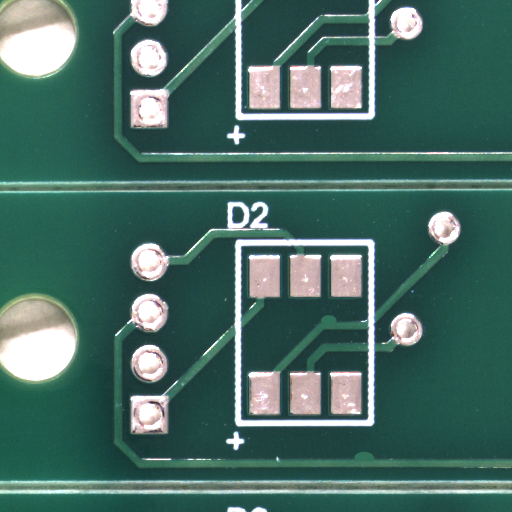Spur: (364, 457, 385, 472), (329, 318, 348, 327)
